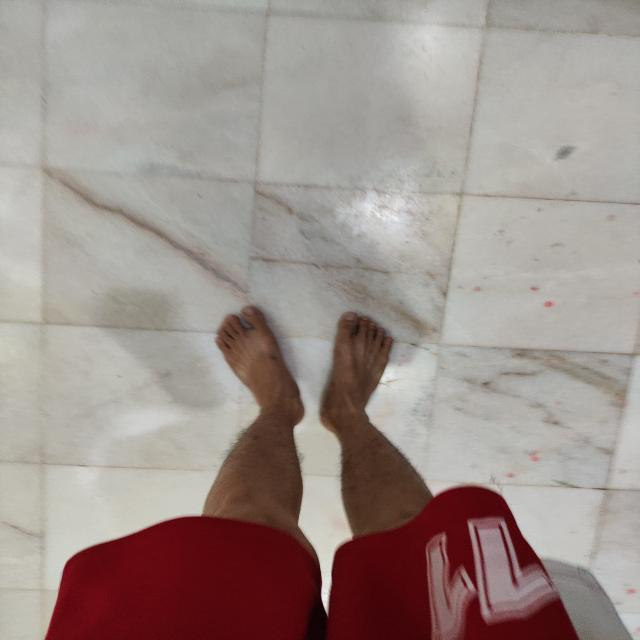No_Shoes: (192, 296, 291, 434), (318, 300, 410, 444)
